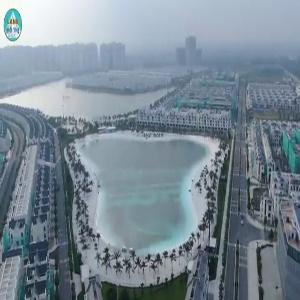drone: (21, 139, 71, 189)
